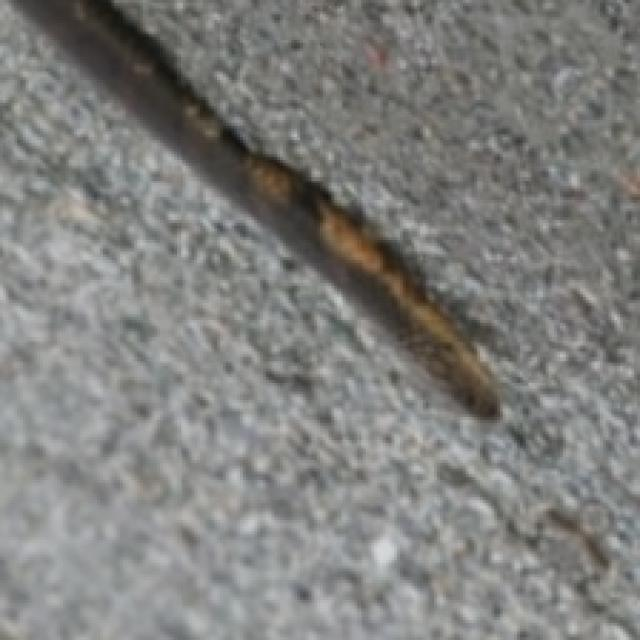king cobra: (11, 0, 497, 414)
